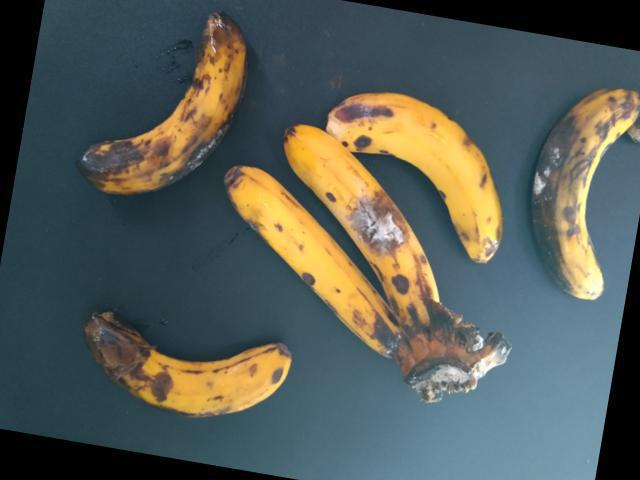ripe: (221, 161, 420, 367), (330, 86, 503, 253)
rotten: (85, 4, 260, 198), (524, 64, 639, 323), (69, 306, 304, 431)
